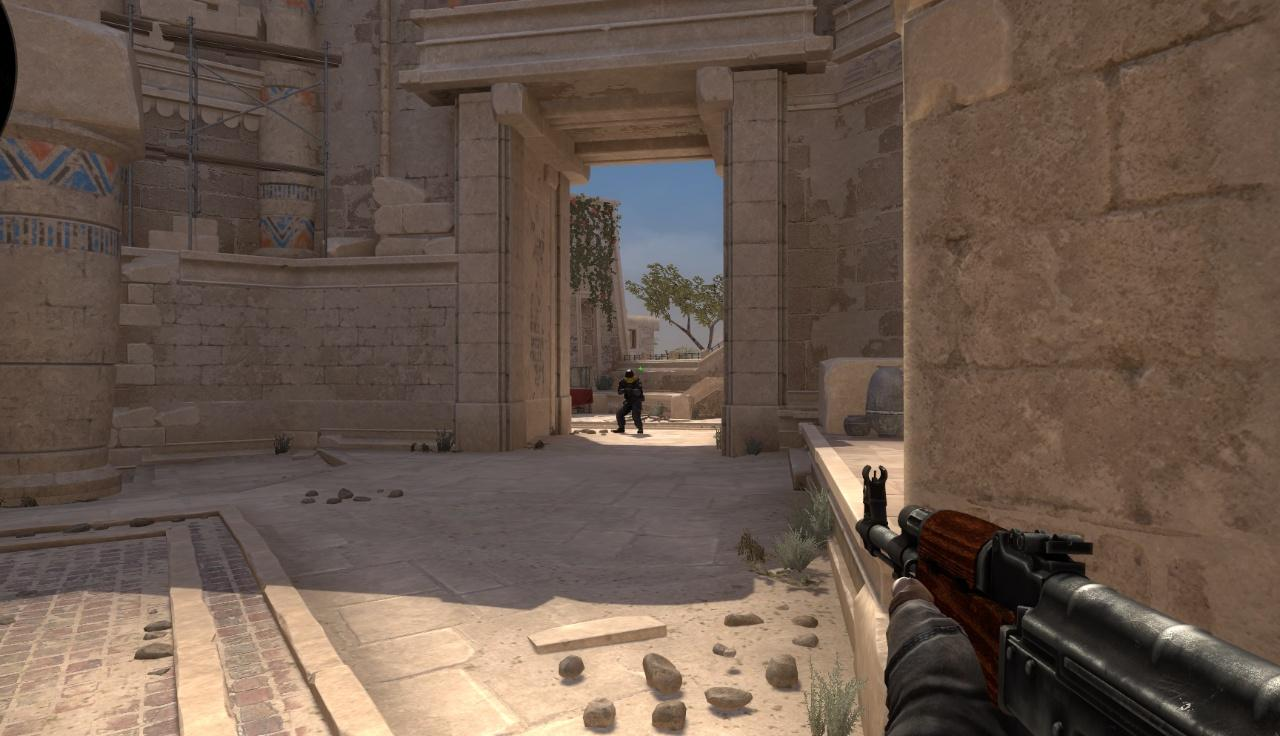ct: (618, 369, 643, 433)
cthead: (625, 370, 634, 382)
rifle: (855, 466, 1280, 736)
